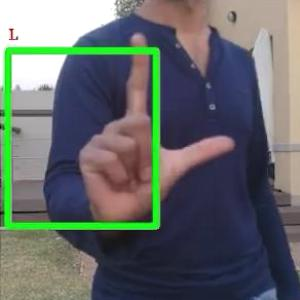land_hand: (52, 21, 235, 238)
